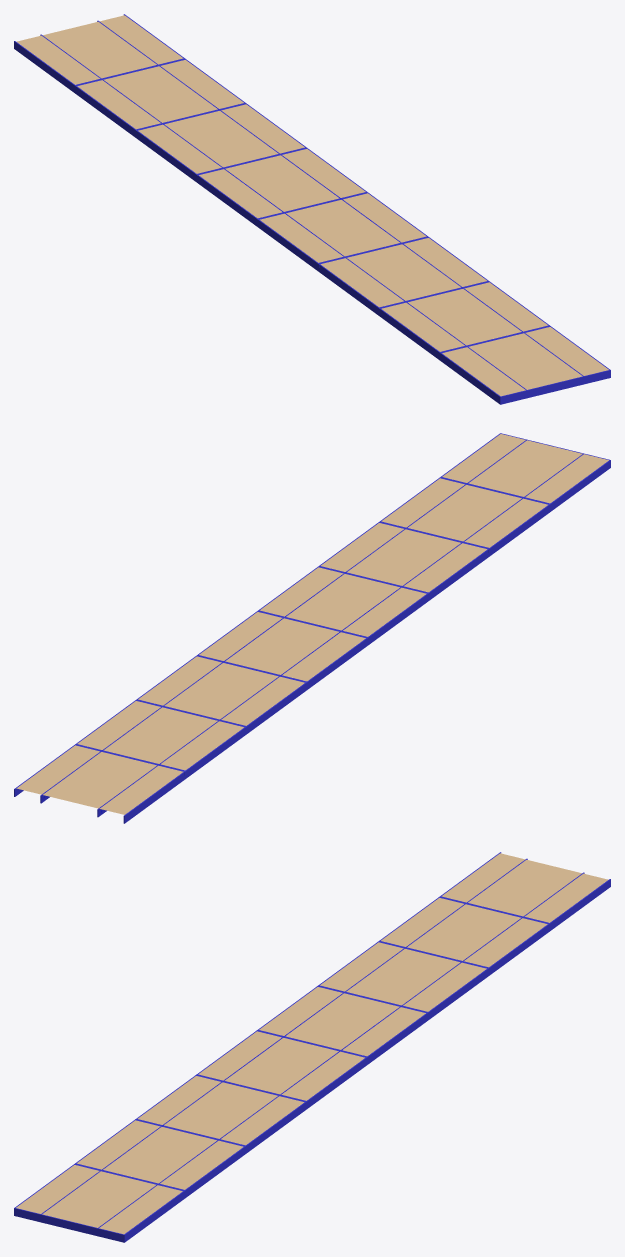
File: bowling-alley.dae
3 views of the same model, one above another, from view 1: azimuth 30°, elevation 25°; view 2: azimuth 150°, elevation 25°; view 3: azimuth 330°, elevation 25° (orthographic).
Parts seen in each view (by area): view 1: group_8 (×3), group_6 (×3), group_10 (×3), group_7 (×3), group_11 (×3), group_9 (×3), group_12 (×3), group_13 (×3), group_3, group_1, group_5, group_2 (+1 smaller); view 2: group_8 (×3), group_13 (×3), group_10 (×3), group_12 (×3), group_6 (×3), group_7 (×3), group_11 (×3), group_9 (×3), group_3, group_4, group_2, group_5; view 3: group_8 (×3), group_6 (×3), group_10 (×3), group_7 (×3), group_11 (×3), group_9 (×3), group_12 (×3), group_13 (×3), group_5, group_1, group_4, group_2 (+1 smaller).
Part boxes in pixels (left/top/right/bottom): group_8 (×3): left=320, top=238, right=487, bottom=307; group_6 (×3): left=16, top=15, right=183, bottom=84; group_10 (×3): left=260, top=193, right=426, bottom=262; group_7 (×3): left=199, top=149, right=365, bottom=218; group_11 (×3): left=138, top=104, right=304, bottom=173; group_9 (×3): left=77, top=60, right=243, bottom=129; group_12 (×3): left=381, top=282, right=547, bottom=351; group_13 (×3): left=442, top=327, right=608, bottom=396; group_3: left=14, top=41, right=501, bottom=404; group_1: left=501, top=370, right=609, bottom=404; group_5: left=123, top=14, right=610, bottom=377; group_2: left=97, top=20, right=583, bottom=376; group_8 (×3): left=320, top=523, right=487, bottom=592; group_13 (×3): left=442, top=434, right=608, bottom=503; group_10 (×3): left=260, top=567, right=426, bottom=636; group_12 (×3): left=381, top=478, right=547, bottom=547; group_6 (×3): left=16, top=745, right=183, bottom=814; group_7 (×3): left=199, top=612, right=365, bottom=681; group_11 (×3): left=138, top=656, right=304, bottom=725; group_9 (×3): left=77, top=701, right=243, bottom=770; group_3: left=123, top=460, right=610, bottom=823; group_4: left=97, top=454, right=583, bottom=817; group_2: left=40, top=440, right=526, bottom=803; group_5: left=14, top=433, right=500, bottom=796; group_8 (×3): left=137, top=1076, right=304, bottom=1145; group_6 (×3): left=441, top=853, right=608, bottom=922; group_10 (×3): left=198, top=1031, right=364, bottom=1100; group_7 (×3): left=259, top=987, right=425, bottom=1056; group_11 (×3): left=320, top=942, right=486, bottom=1011; group_9 (×3): left=381, top=898, right=547, bottom=967; group_12 (×3): left=77, top=1120, right=243, bottom=1189; group_13 (×3): left=16, top=1165, right=182, bottom=1234; group_5: left=123, top=879, right=610, bottom=1242; group_1: left=15, top=1208, right=123, bottom=1242; group_4: left=41, top=858, right=527, bottom=1214; group_2: left=98, top=872, right=584, bottom=1228.
Bounding box in the file's own units: 41.38 × 315 × 2.76.
